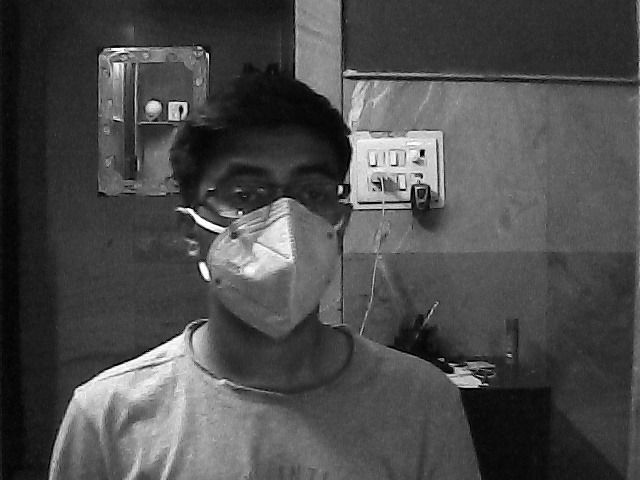mask: (195, 160, 350, 342)
